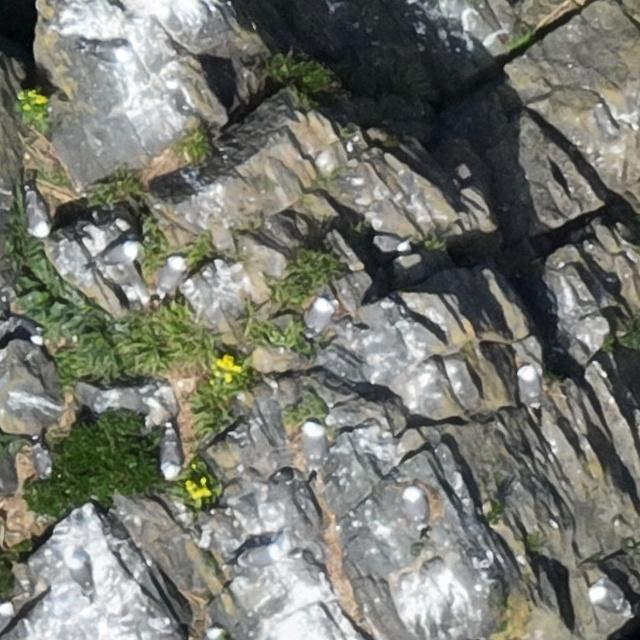umineko: (590, 588, 631, 616), (160, 431, 181, 476), (236, 547, 278, 568), (27, 197, 49, 236), (158, 256, 182, 291), (517, 366, 538, 404), (404, 490, 426, 524), (308, 300, 329, 332), (104, 243, 137, 263), (304, 425, 322, 460), (374, 234, 405, 252), (89, 44, 123, 60), (72, 559, 88, 593), (34, 446, 52, 475), (0, 603, 10, 627), (203, 627, 220, 640)
